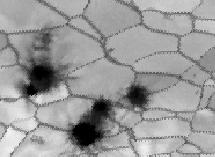good_void: (65, 96, 121, 154), (12, 56, 67, 101), (118, 82, 152, 113), (32, 29, 54, 54), (28, 134, 46, 148)
